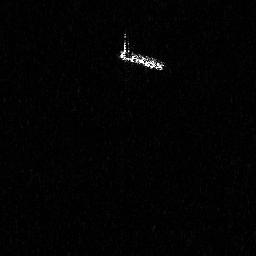ship: (118, 31, 166, 71)
